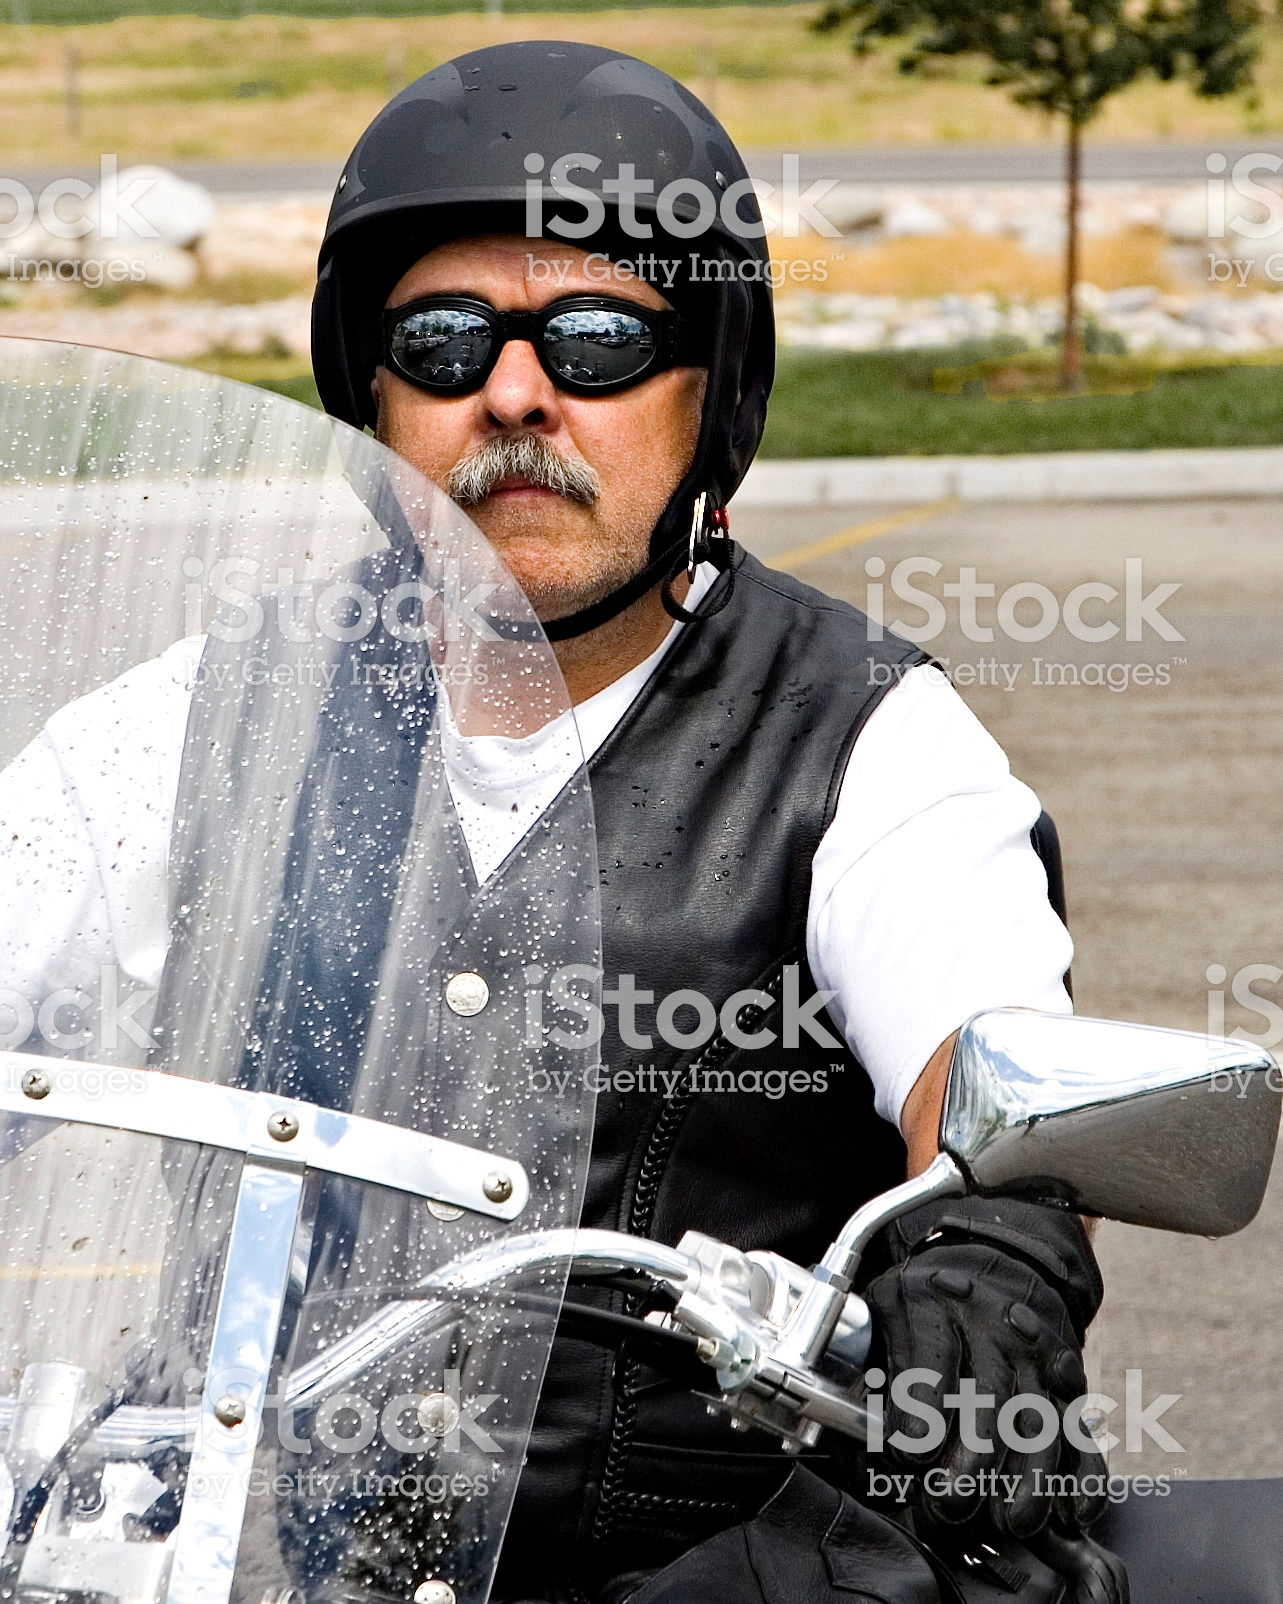helmet: (323, 41, 812, 435)
